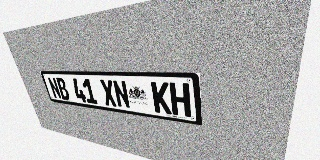1: (81, 79, 98, 104)
4: (71, 78, 87, 103)
B: (55, 77, 71, 100)
H: (169, 82, 191, 117)
K: (151, 82, 172, 114)
N: (112, 80, 131, 109), (47, 77, 62, 99)
X: (99, 79, 118, 107)
